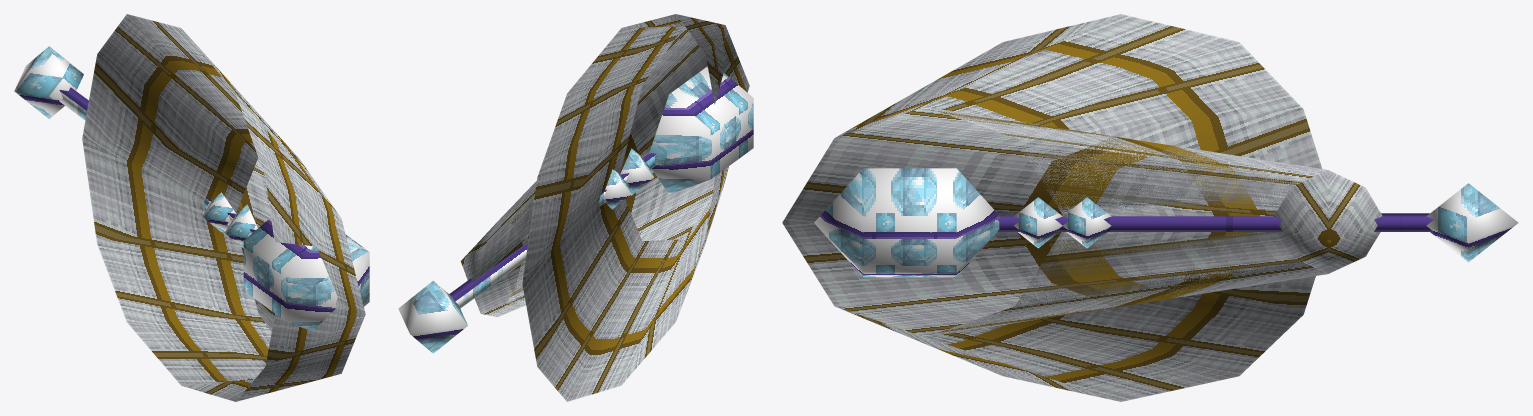
The model's file is 03_03_stick.gltf.
3 renders of one model, left to right at view 1: azimuth 30°, elevation 25°; view 2: azimuth 150°, elevation 25°; view 3: azimuth 270°, elevation 25°, orthographic. The views are drawn at different scales.
Parts seen in each view (by area): view 1: 03_03_stick; view 2: 03_03_stick; view 3: 03_03_stick.
Part boxes in pixels (<box>): 03_03_stick: <box>14,14,369,401</box>; 03_03_stick: <box>398,14,753,401</box>; 03_03_stick: <box>782,14,1518,401</box>.
Bounding box in the file's own units: 0.1846 × 0.761 × 1.31.
2 materials, 2 textured.
